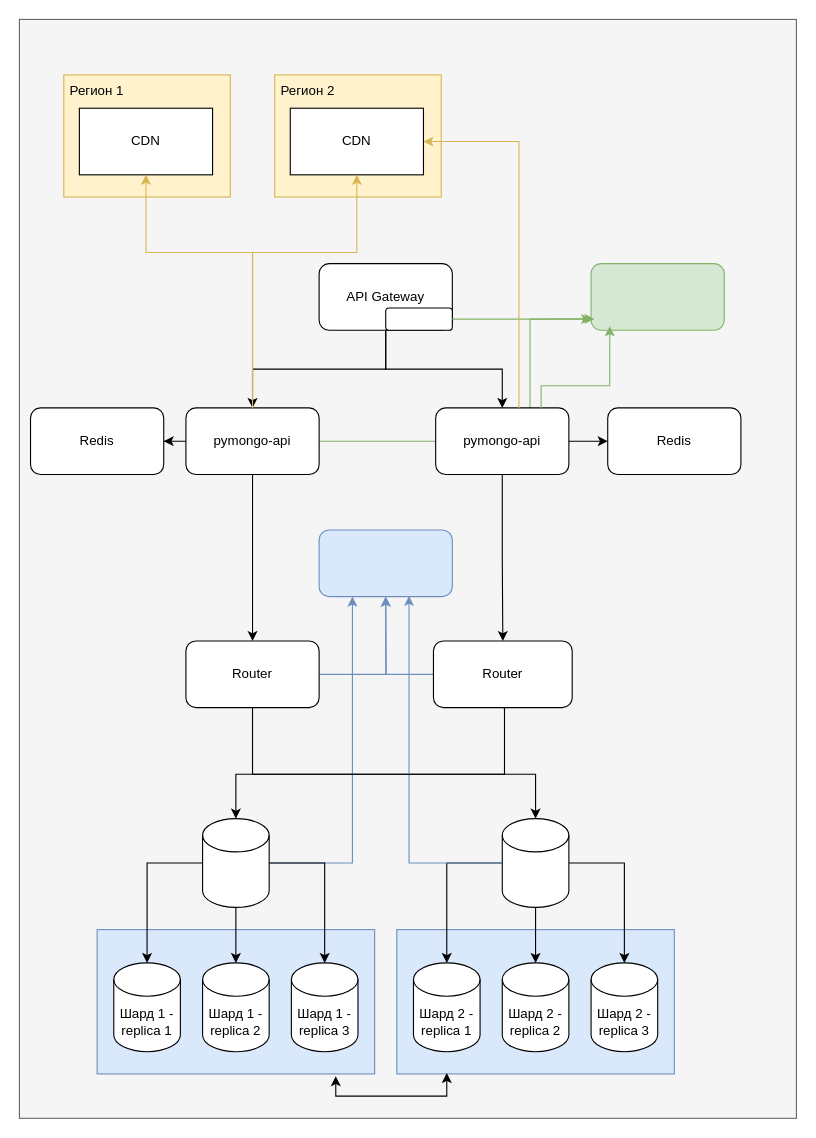
Some shapes in this 816 by 1138 pixel diagram are drawn without their labels. Each missing label, with the centre of its shape:
ConfigServer: [385,563]
Consul: [657,296]
consul_kv: [418,318]
Шард 1. MongoDB: [235,862]
Шард 2. MongoDB: [535,862]
